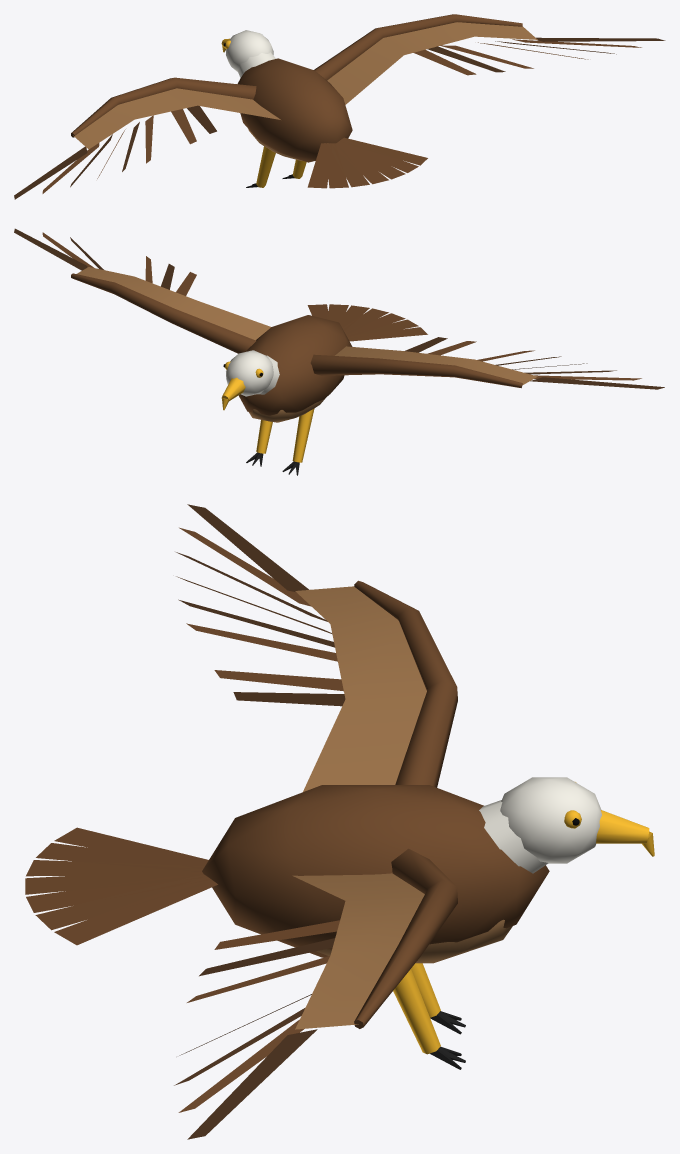
The model's file is roc.glb.
3 views of the same model, one above another, from view 1: azimuth 30°, elevation 25°; view 2: azimuth 150°, elevation 25°; view 3: azimuth 270°, elevation 25° (orthographic). The views are drawn at different scales.
Parts seen in each view (by area): view 1: Roc, WingR, WingL; view 2: Roc, WingR, WingL; view 3: Roc, WingL, WingR.
Boxes of the visible parts, box(x1,y1,x2,y2) form: Roc: box(221, 30, 427, 188); WingR: box(314, 14, 665, 104); WingL: box(14, 77, 280, 199); Roc: box(221, 304, 427, 475); WingR: box(14, 228, 270, 353); WingL: box(310, 337, 664, 389); Roc: box(25, 777, 654, 1069); WingL: box(176, 504, 457, 791); WingR: box(174, 848, 457, 1139).
Bounding box in the file's own units: 5.36 × 1.07 × 2.24.
